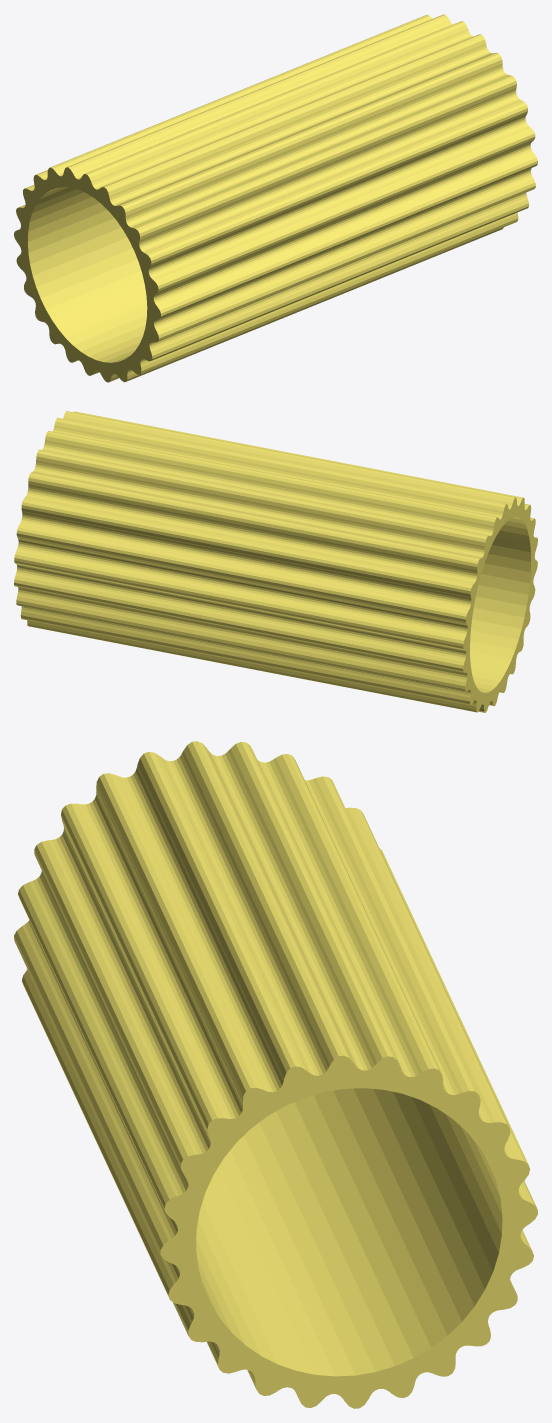
File: Rigatoni.001.gltf
3 renders of one model, top to bottom at view 1: azimuth 30°, elevation 25°; view 2: azimuth 150°, elevation 25°; view 3: azimuth 270°, elevation 25°, orthographic. The views are drawn at different scales.
Parts seen in each view (by area): view 1: Rigatoni.001; view 2: Rigatoni.001; view 3: Rigatoni.001.
Part boxes in pixels (x1,y1,x2,y2): Rigatoni.001: [14, 14, 537, 382]; Rigatoni.001: [14, 411, 537, 712]; Rigatoni.001: [14, 741, 537, 1408].
Bounding box in the file's own units: 1.58 × 0.742 × 0.9317.
